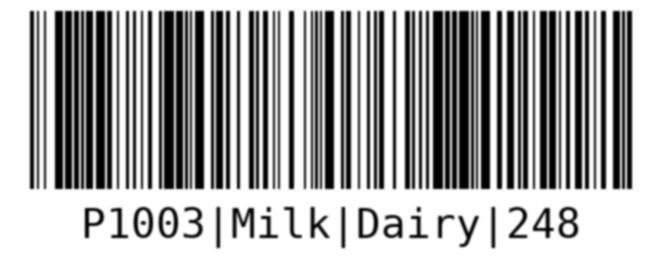milk: (24, 5, 638, 250)
